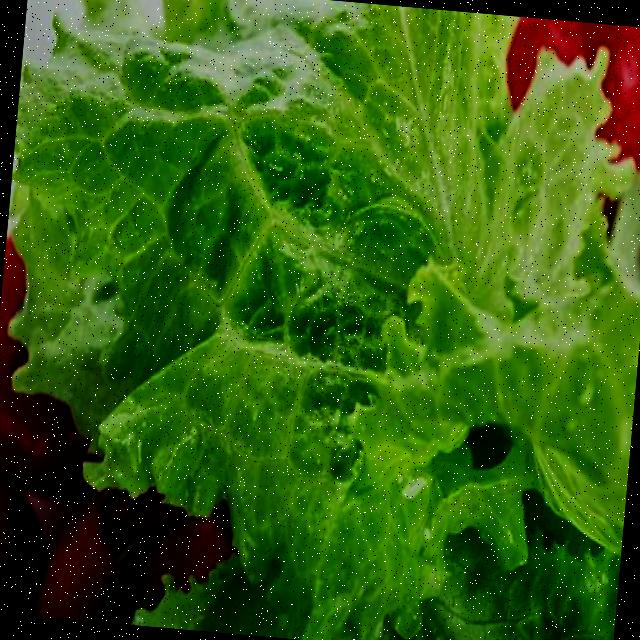healthy: (92, 0, 503, 487)
